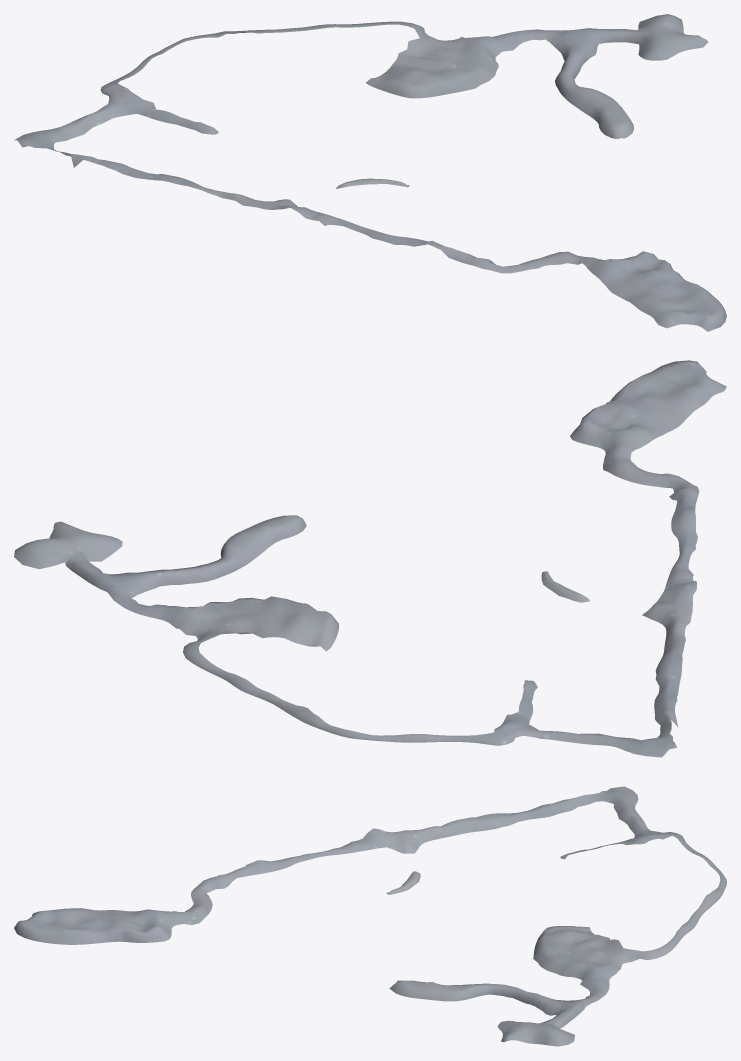
File: pref_sm_beach_winter_blocksnow05a_lv3.fbx
3 renders of one model, top to bottom at view 1: azimuth 30°, elevation 25°; view 2: azimuth 150°, elevation 25°; view 3: azimuth 270°, elevation 25°, orthographic. The views are drawn at different scales.
Visible parts, largest first — view 1: pref_sm_beach_winter_blocksnow05a_lv3; view 2: pref_sm_beach_winter_blocksnow05a_lv3; view 3: pref_sm_beach_winter_blocksnow05a_lv3.
Boxes of the visible parts, x1,y1,x2,y2 form: pref_sm_beach_winter_blocksnow05a_lv3: (14,14,726,331); pref_sm_beach_winter_blocksnow05a_lv3: (14,360,726,757); pref_sm_beach_winter_blocksnow05a_lv3: (14,786,726,1046).
Size of the model in its own units: 20.36 by 0.6999 by 23.78.
